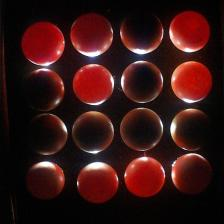fertile: (119, 9, 164, 54), (21, 68, 65, 113), (120, 60, 164, 105), (120, 107, 164, 152), (71, 111, 115, 155), (170, 108, 214, 151), (171, 154, 215, 196), (25, 114, 68, 156), (25, 160, 65, 202)
infertile: (21, 21, 65, 67), (70, 12, 113, 56), (72, 63, 114, 106), (170, 61, 213, 103), (76, 161, 119, 203), (123, 156, 166, 197), (169, 11, 210, 53)
